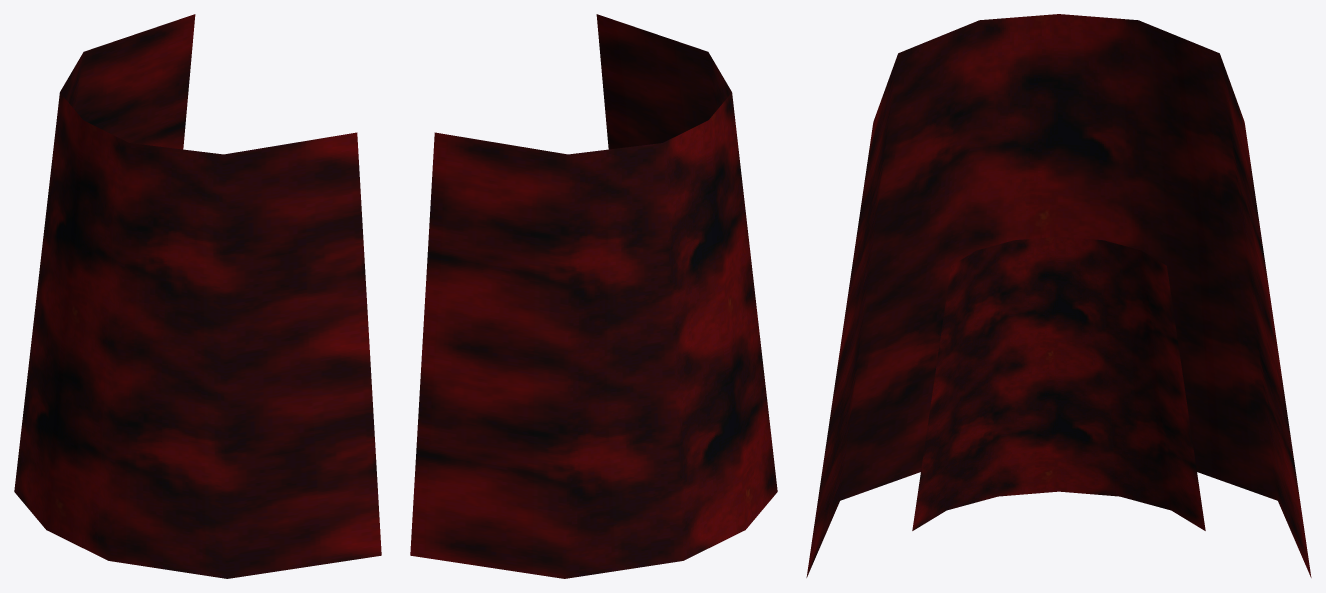
Rendered from Clouds.glb.
3 renders of one model, left to right at view 1: azimuth 30°, elevation 25°; view 2: azimuth 150°, elevation 25°; view 3: azimuth 270°, elevation 25°, orthographic. The views are drawn at different scales.
Parts seen in each view (by area): view 1: clouds; view 2: clouds; view 3: clouds.
Part boxes in pixels (left/top/right/bottom): clouds: left=14, top=14, right=381, bottom=578; clouds: left=410, top=14, right=777, bottom=578; clouds: left=806, top=14, right=1311, bottom=577.
Size of the model in its own units: 42.12 by 70.12 by 69.84.
1 material, 1 textured.
